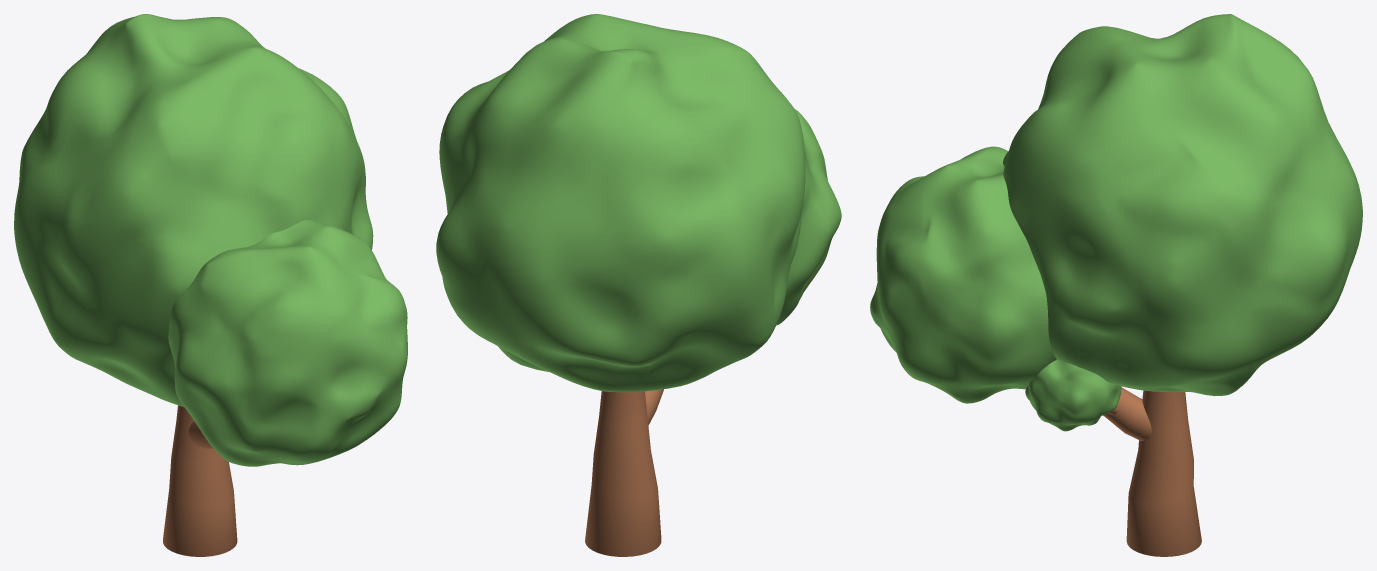
The model's file is TREE_TWO.fbx.
3 renders of one model, left to right at view 1: azimuth 30°, elevation 25°; view 2: azimuth 150°, elevation 25°; view 3: azimuth 270°, elevation 25°, orthographic. The views are drawn at different scales.
Visible parts, largest first — view 1: Icosphere.019, Icosphere.020, Cylinder; view 2: Icosphere.019, Cylinder, Icosphere.020; view 3: Icosphere.019, Icosphere.020, Cylinder, Icosphere.021, Cylinder.011.
Boxes of the visible parts, x1=… form: Icosphere.019: x1=14, y1=14, x2=373, y2=406; Icosphere.020: x1=168, y1=220, x2=407, y2=466; Cylinder: x1=163, y1=405, x2=237, y2=556; Icosphere.019: x1=436, y1=14, x2=805, y2=392; Cylinder: x1=585, y1=391, x2=661, y2=556; Icosphere.020: x1=776, y1=109, x2=841, y2=325; Icosphere.019: x1=1003, y1=14, x2=1362, y2=396; Icosphere.020: x1=870, y1=146, x2=1056, y2=403; Cylinder: x1=1126, y1=390, x2=1201, y2=556; Icosphere.021: x1=1025, y1=359, x2=1121, y2=431; Cylinder.011: x1=1103, y1=387, x2=1151, y2=440.
Size of the model in its own units: 1771 by 2697 by 2356.
